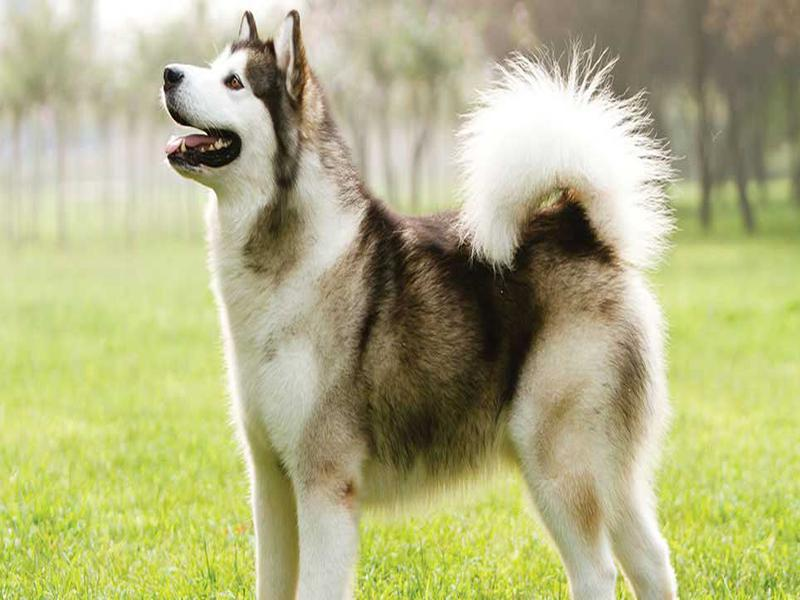dog: (152, 9, 689, 600)
